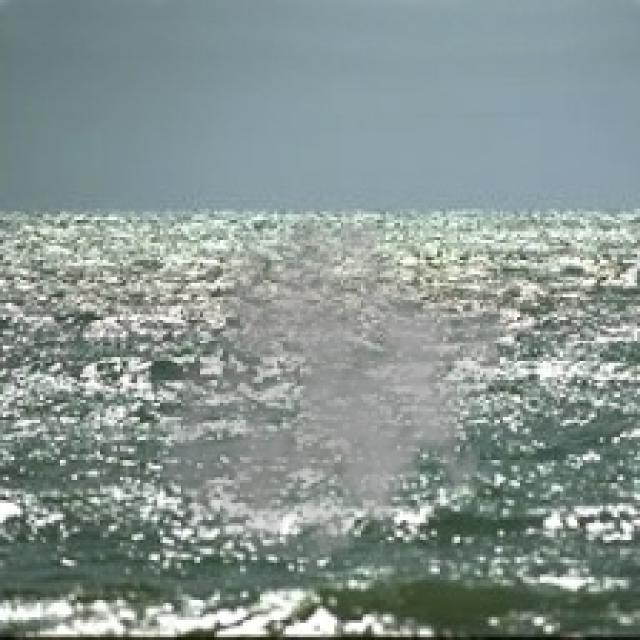Smoke: (154, 191, 509, 600)
